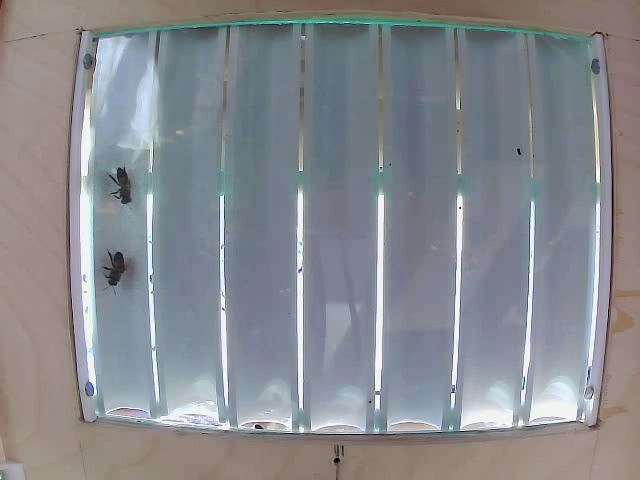bee: (96, 250, 133, 308), (110, 154, 139, 201)
